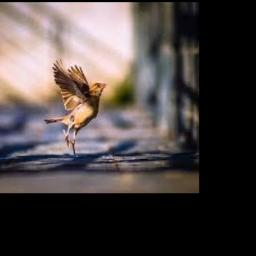Sparrow: (45, 58, 107, 157)
